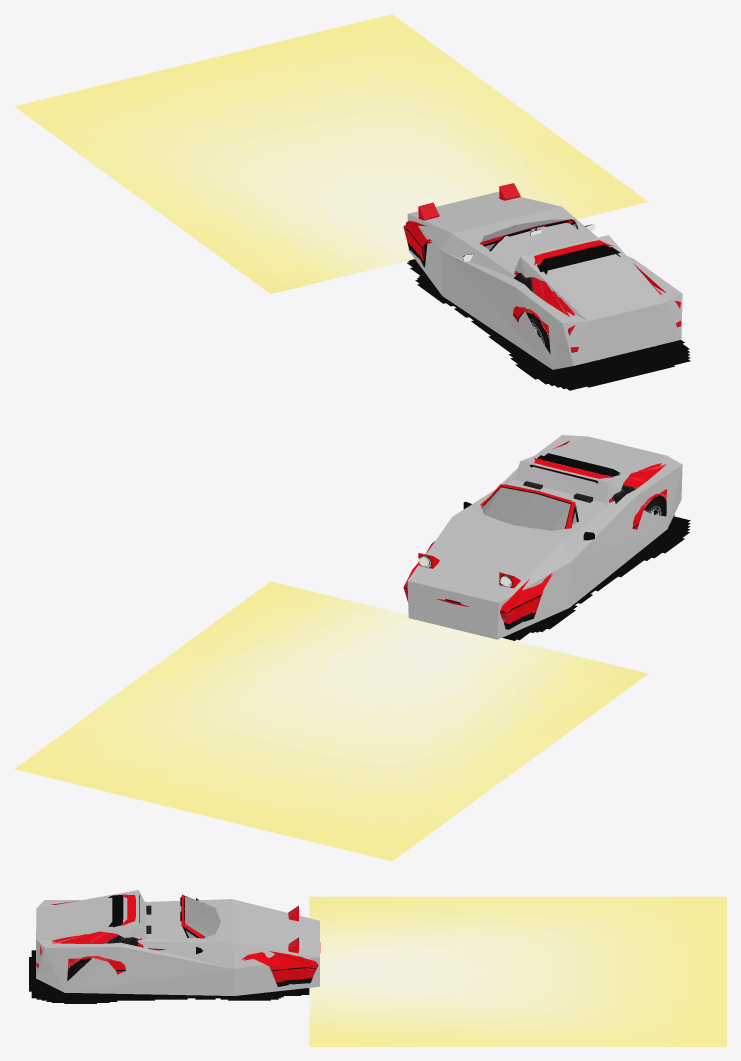
File: rc-328gts.glb
3 views of the same model, one above another, from view 1: azimuth 30°, elevation 25°; view 2: azimuth 150°, elevation 25°; view 3: azimuth 270°, elevation 25° (orthographic). The views are drawn at different scales.
Parts seen in each view (by area): view 1: rc-328gts; view 2: rc-328gts; view 3: rc-328gts.
Boxes of the visible parts, x1,y1,x2,y2 form: rc-328gts: [14, 14, 690, 390]; rc-328gts: [14, 435, 690, 861]; rc-328gts: [29, 890, 726, 1046].
Size of the model in its own units: 5.29 by 1.43 by 10.61.
26 materials, 22 textured.
